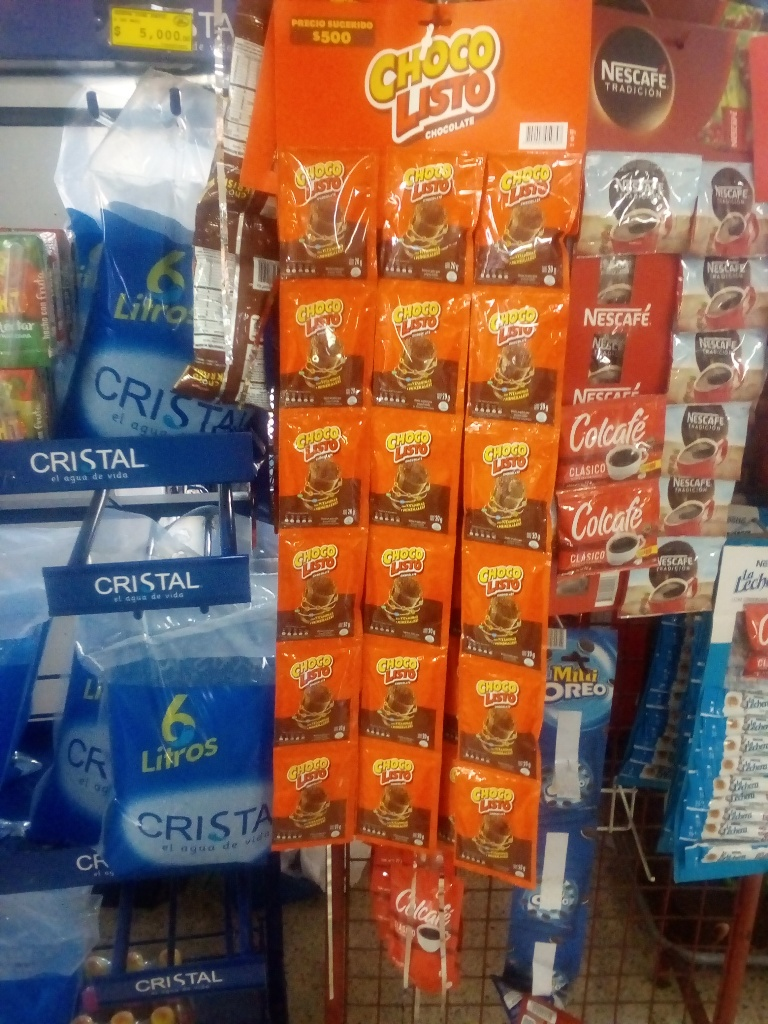COL0170103SOB02000: (280, 149, 373, 271)
